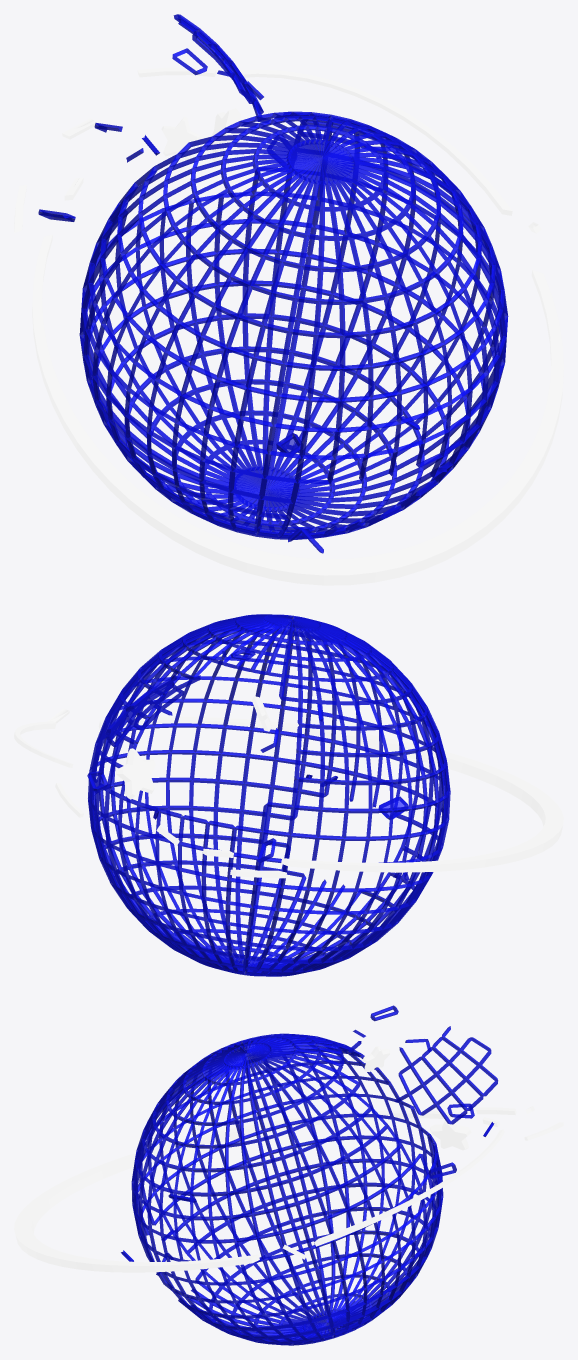
File: boom.glb
The picture shows the model from 3 angles, top to bottom: view 1: azimuth 30°, elevation 25°; view 2: azimuth 150°, elevation 25°; view 3: azimuth 270°, elevation 25°; orthographic projection. The views are drawn at different scales.
Visible parts, largest first — view 1: Sphere, ersatz ring v2, Plane; view 2: Sphere, ersatz ring v2, Plane.001; view 3: Sphere, ersatz ring v2, Plane.001, Plane.
Boxes of the visible parts, box(x1,y1,x2,y2) form: Sphere: box(38, 14, 508, 553); ersatz ring v2: box(14, 67, 563, 585); Plane: box(161, 116, 202, 160); Sphere: box(87, 614, 450, 976); ersatz ring v2: box(14, 708, 563, 878); Plane.001: box(116, 748, 155, 799); Sphere: box(121, 1005, 498, 1345); ersatz ring v2: box(14, 1106, 563, 1272); Plane.001: box(430, 1117, 471, 1150); Plane: box(363, 1046, 389, 1072).
Size of the model in its own units: 2.74 by 2.21 by 3.57.
